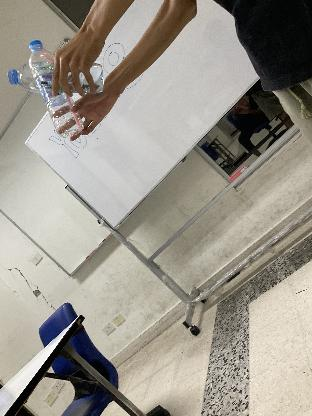Plastic Bottle: (28, 40, 85, 138), (8, 61, 106, 95)
